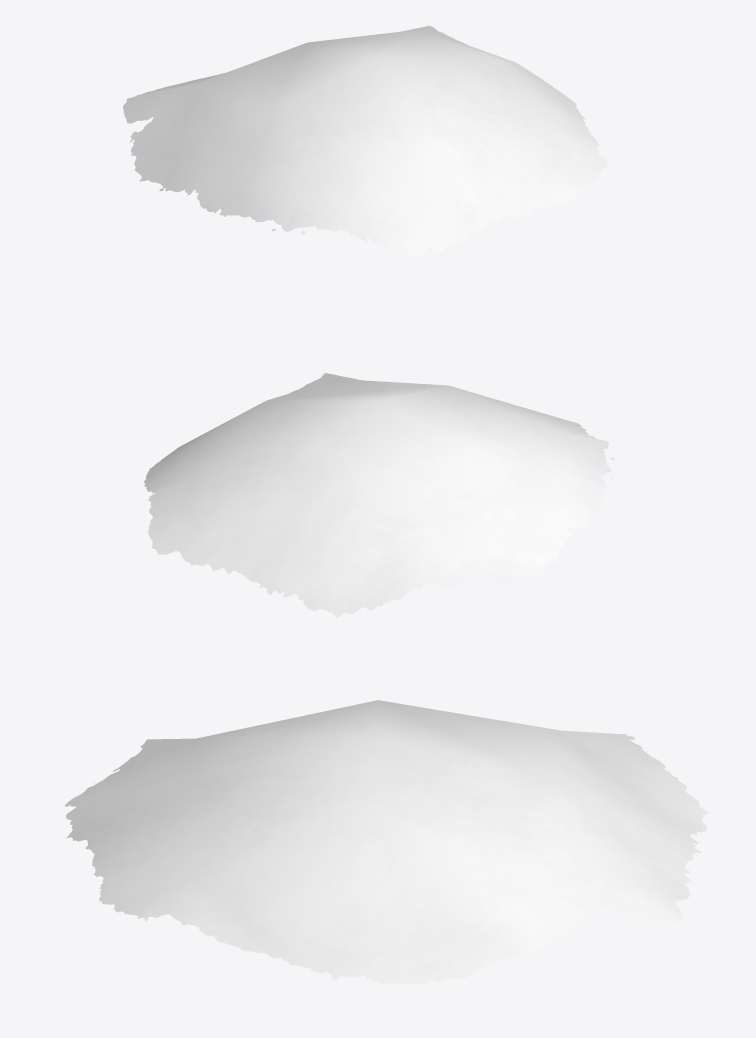
Rendered from Snow_Alpha_001.FBX.
The picture shows the model from 3 angles, top to bottom: view 1: azimuth 30°, elevation 25°; view 2: azimuth 150°, elevation 25°; view 3: azimuth 270°, elevation 25°; orthographic projection. The views are drawn at different scales.
Parts seen in each view (by area): view 1: Snow_Alpha_001; view 2: Snow_Alpha_001; view 3: Snow_Alpha_001.
Boxes of the visible parts, <box> form: Snow_Alpha_001: <box>123,25,610,257</box>; Snow_Alpha_001: <box>144,373,614,617</box>; Snow_Alpha_001: <box>64,700,709,984</box>.
Bounding box in the file's own units: 4.19 × 1 × 4.57.
